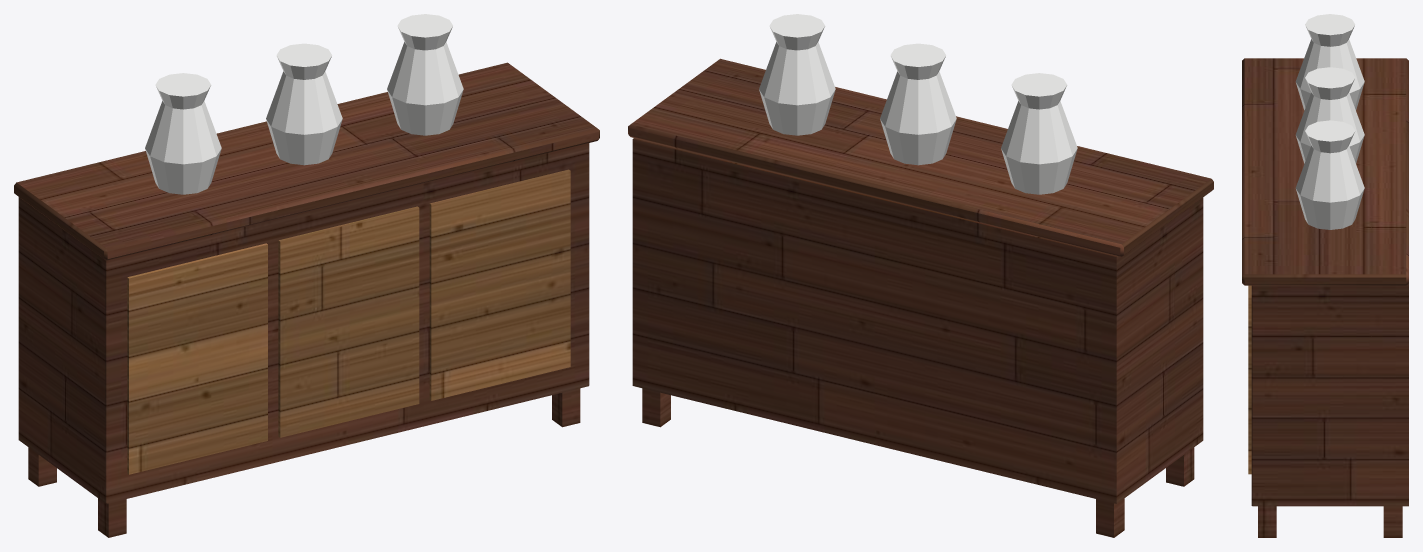
The model's file is sideboard.glb.
The picture shows the model from 3 angles, left to right: view 1: azimuth 30°, elevation 25°; view 2: azimuth 150°, elevation 25°; view 3: azimuth 270°, elevation 25°; orthographic projection. The views are drawn at different scales.
Visible parts, largest first — view 1: sideboard_dkwood, sideboard_oak, sideboard_porcelain; view 2: sideboard_dkwood, sideboard_porcelain; view 3: sideboard_dkwood, sideboard_porcelain, sideboard_oak.
Boxes of the visible parts, x1,y1,x2,y2 form: sideboard_dkwood: [14, 62, 599, 537]; sideboard_oak: [127, 169, 570, 474]; sideboard_porcelain: [145, 14, 463, 194]; sideboard_dkwood: [628, 58, 1213, 537]; sideboard_porcelain: [759, 14, 1077, 194]; sideboard_dkwood: [1242, 58, 1408, 537]; sideboard_porcelain: [1295, 14, 1364, 229]; sideboard_oak: [1248, 285, 1251, 474].
Bounding box in the file's own units: 1.64 × 1.25 × 0.53.
3 materials, 2 textured.
